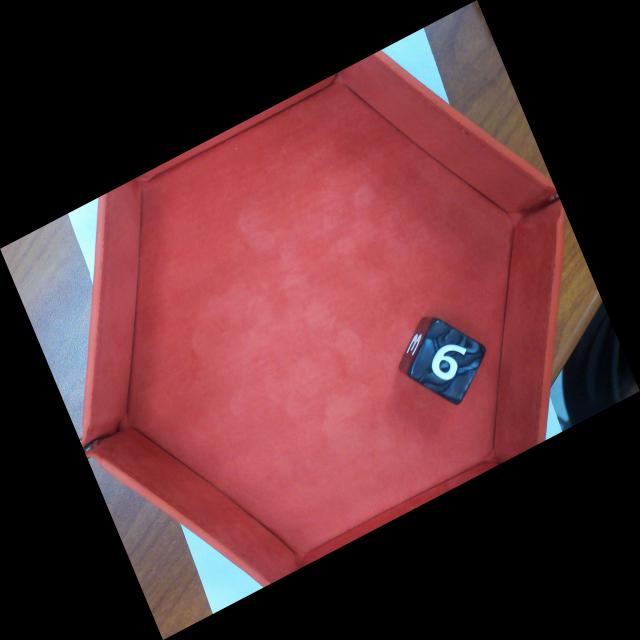dice: (405, 316, 489, 409)
